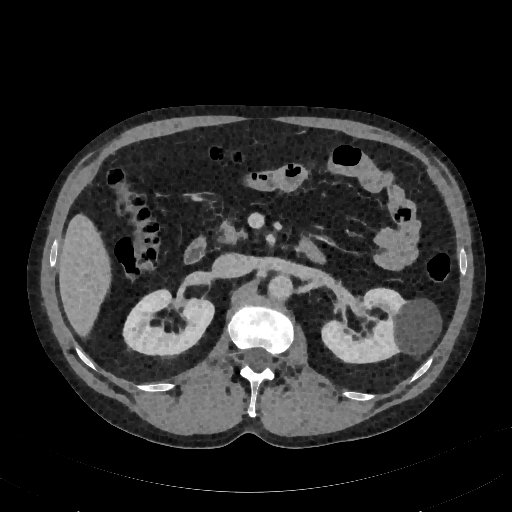Lesion: (388, 293, 446, 360)
